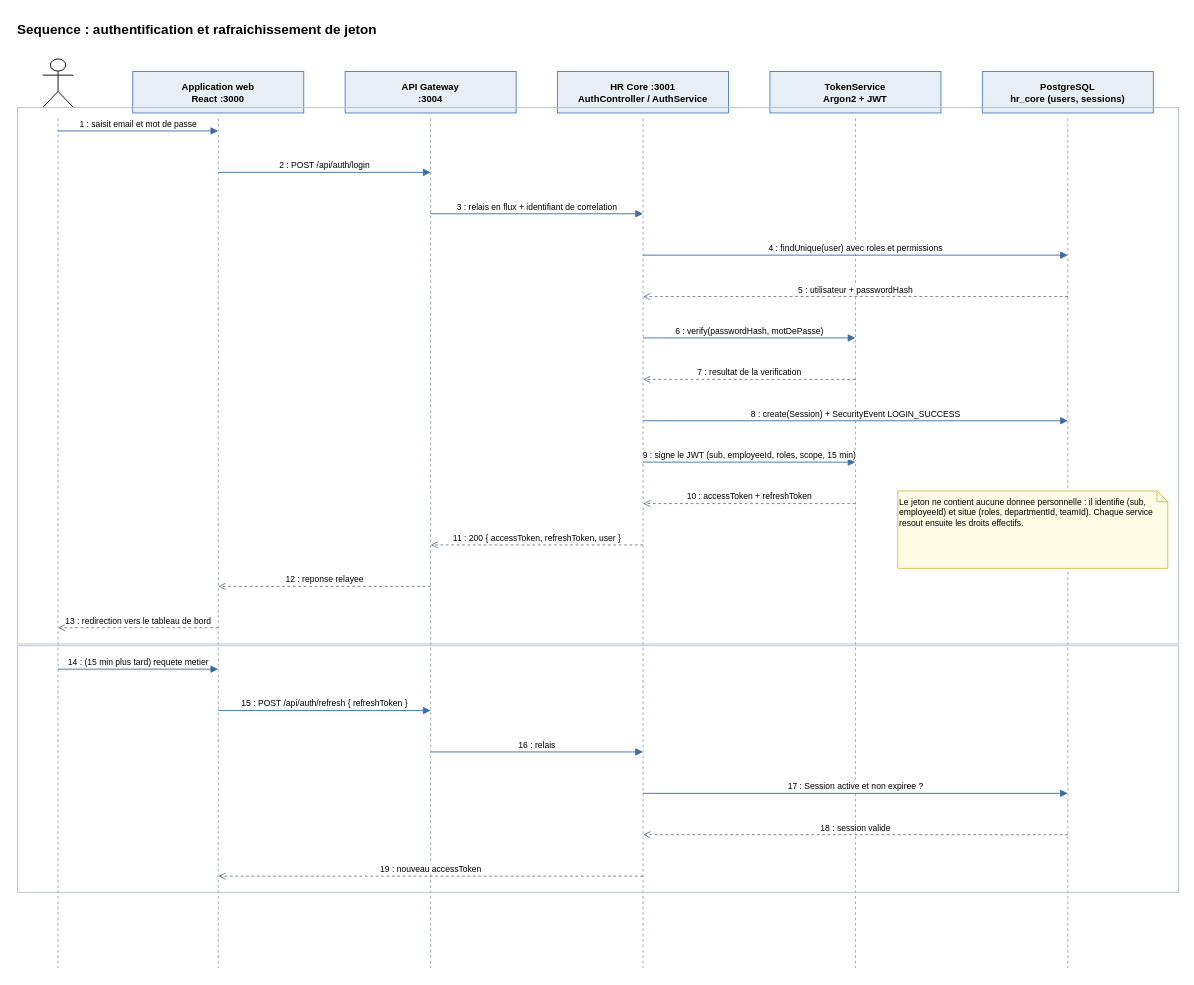
This 1194x985 diagram has some shape labels left out. Here are the shapes that lost their labels. From the top down, the box of each, then its label:
(42, 58, 73, 108): Utilisateur
(17, 107, 1179, 644): Phase 1 - authentification initiale
(17, 645, 1179, 892): Phase 2 - renouvellement silencieux
